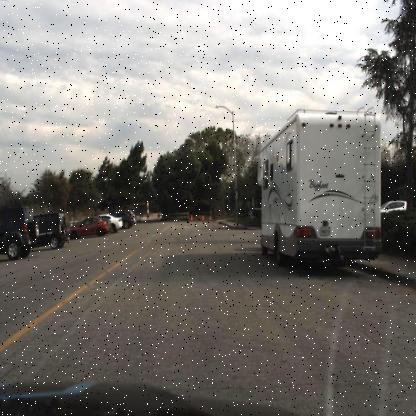car: (0, 204, 42, 264), (35, 207, 68, 253), (65, 214, 109, 242), (107, 214, 125, 232)
truck: (254, 102, 385, 276)
